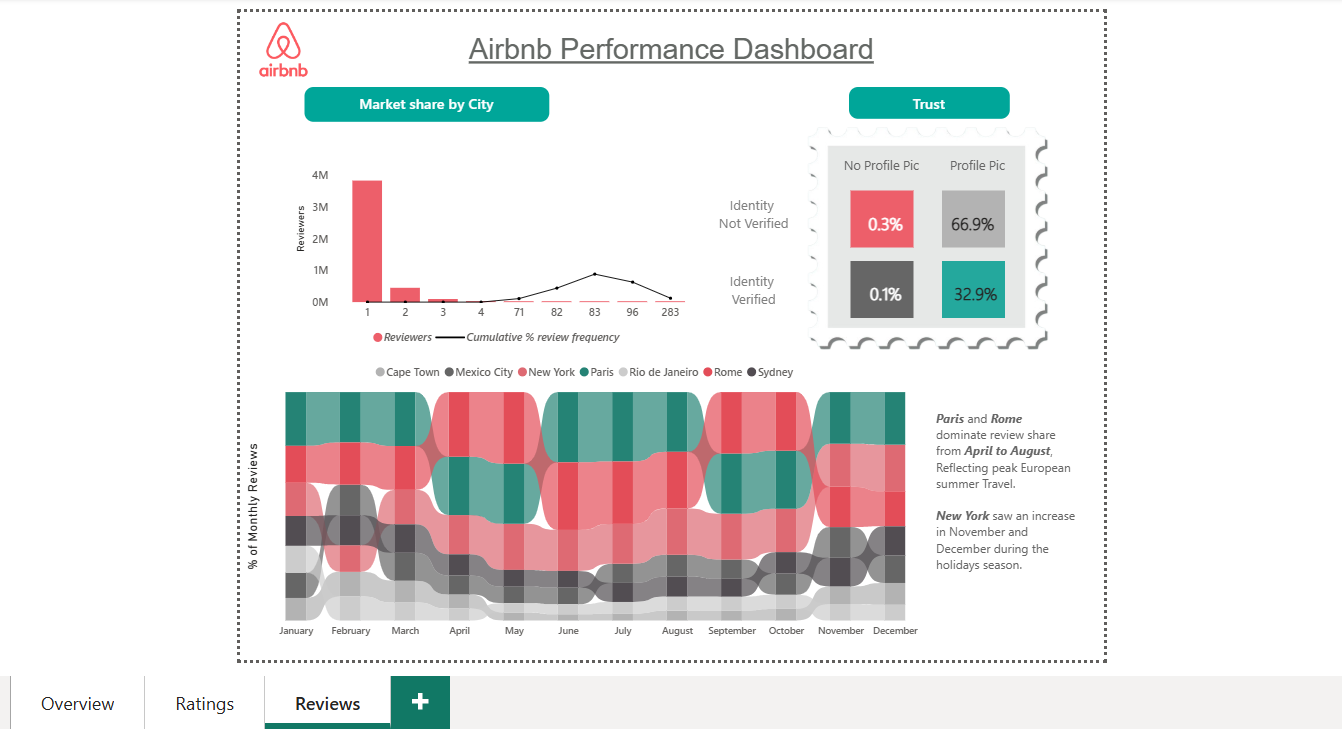

The page's visual inventory and layout, read from the dashboard file:
{"tool":"powerbi","page":{"name":"Reviews","canvas":[960,720],"ordinal":2},"visuals":[{"type":"textbox","box":[200.8,0,558.3,83.3],"z":0},{"type":"image","box":[601.2,101.7,325,300],"z":0,"group":"g1"},{"type":"image","box":[0,0,96.7,83.3],"z":1000},{"type":"shape","box":[677.8,198.9,70,63.3],"z":1000,"group":"g1"},{"type":"textbox","box":[71.7,83.3,271.7,38.3],"z":2000},{"type":"shape","box":[779.5,198.9,70,63.3],"z":2000,"group":"g1"},{"type":"shape","box":[677.8,277.3,70,63.3],"z":3000,"group":"g1"},{"type":"textbox","box":[768.3,436.7,165,283.3],"z":3000},{"type":"textbox","box":[676.7,83.3,178.3,35],"z":4000},{"type":"shape","box":[779.5,277.3,70,63.3],"z":4000,"group":"g1"},{"type":"textbox","box":[686.6,217.2,61.5,45.3],"z":5000,"group":"g1"},{"type":"lineStackedColumnComboChart","fields":{"Category":["Reviews.Reviews per Reviewer"],"Y":["Reviews.Reviewers"],"Y2":["Reviews.Cumulative % review frequency"]},"box":[56.7,145,460,235],"z":6000},{"type":"textbox","box":[783.7,217.2,61.5,45.3],"z":6000,"group":"g1"},{"type":"textbox","box":[787,294.9,61.5,45.3],"z":7000,"group":"g1"},{"type":"textbox","box":[36,473,150,227],"z":7000},{"type":"group","id":"g1","title":"Group 1","box":[511.7,101.7,413.3,300],"z":8000},{"type":"textbox","box":[686.6,294.9,61.5,45.3],"z":8000,"group":"g1"},{"type":"textbox","box":[764.3,155.7,108.5,48.6],"z":9000,"group":"g1"},{"type":"ribbonChart","fields":{"Y":["Reviews.% of Monthly Reviews"],"Category":["Reviews.date.Variation.Date Hierarchy.Month"],"Series":["Listings.city"]},"box":[0,380.5,769.1,323.8],"z":9000},{"type":"textbox","box":[659,155.7,108.5,43.7],"z":10000,"group":"g1"},{"type":"textbox","box":[511.7,197.8,118.2,66.4],"z":11000,"group":"g1"},{"type":"textbox","box":[511.7,283.6,118.2,66.4],"z":12000,"group":"g1"}]}

Visuals, with their boxes on the page's 960x720 design canvas (x1, y1, x2, y2). These are canvas units, not pixel positions in the 1342x729 screenshot, which may show the page scaled, cropped or inside an application window:
textbox: 201,0,759,83
image: 601,102,926,402
image: 0,0,97,83
shape: 678,199,748,262
textbox: 72,83,343,122
shape: 780,199,850,262
shape: 678,277,748,341
textbox: 768,437,933,720
textbox: 677,83,855,118
shape: 780,277,850,341
textbox: 687,217,748,262
lineStackedColumnComboChart - Reviews.Reviews per Reviewer x Reviews.Reviewers: 57,145,517,380
textbox: 784,217,845,262
textbox: 787,295,848,340
textbox: 36,473,186,700
"Group 1" group: 512,102,925,402
textbox: 687,295,748,340
textbox: 764,156,873,204
ribbonChart - Reviews.% of Monthly Reviews x Reviews.date.Variation.Date Hierarchy.Month: 0,380,769,704
textbox: 659,156,768,199
textbox: 512,198,630,264
textbox: 512,284,630,350
